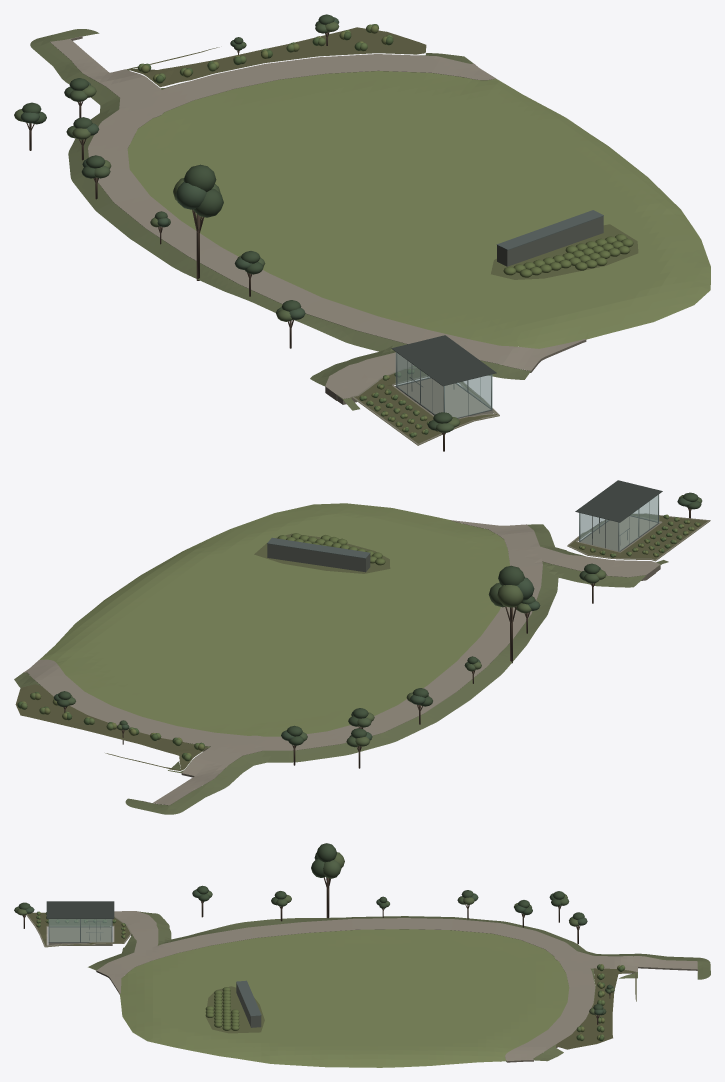
Rendered from site.glb.
The picture shows the model from 3 angles, top to bottom: view 1: azimuth 30°, elevation 25°; view 2: azimuth 150°, elevation 25°; view 3: azimuth 270°, elevation 25°; orthographic projection. The views are drawn at different scales.
Visible parts, largest first — view 1: science-green-west-paving, science-green-west-planting-soil, science-green-west-tree-inventory, science-green-glass-stair-enclosure, science-green-west-understory, science-green-stair-glass, science-green-lawn-feature, science-green-west-paving-edges; view 2: science-green-west-paving, science-green-west-planting-soil, science-green-west-tree-inventory, science-green-glass-stair-enclosure, science-green-west-understory, science-green-stair-glass, science-green-lawn-feature, science-green-west-paving-edges; view 3: science-green-west-paving, science-green-west-planting-soil, science-green-west-tree-inventory, science-green-glass-stair-enclosure, science-green-west-understory, science-green-stair-glass, science-green-west-paving-edges, science-green-lawn-feature.
Boxes of the visible parts, x1,y1,x2,y2 form: science-green-west-paving: (30,29,710,410); science-green-west-planting-soil: (129,27,638,445); science-green-west-tree-inventory: (14,14,460,451); science-green-glass-stair-enclosure: (391,335,496,418); science-green-west-understory: (138,24,633,437); science-green-stair-glass: (395,352,492,417); science-green-lawn-feature: (496,210,603,266); science-green-west-paving-edges: (50,36,586,444); science-green-west-paving: (14,503,668,814); science-green-west-planting-soil: (15,514,710,770); science-green-west-tree-inventory: (53,492,702,768); science-green-glass-stair-enclosure: (575,480,662,551); science-green-west-understory: (17,514,700,761); science-green-stair-glass: (579,494,659,551); science-green-lawn-feature: (267,537,370,572); science-green-west-paving-edges: (27,513,710,805); science-green-west-paving: (88,911,710,1067); science-green-west-planting-soil: (26,913,636,1049); science-green-west-tree-inventory: (14,843,614,1024); science-green-glass-stair-enclosure: (46,901,114,945); science-green-west-understory: (36,911,624,1041); science-green-stair-glass: (49,919,111,941); science-green-west-paving-edges: (26,912,697,1062); science-green-lawn-feature: (236,980,261,1027).
Bounding box in the file's own units: 32.91 × 8.03 × 63.61.
